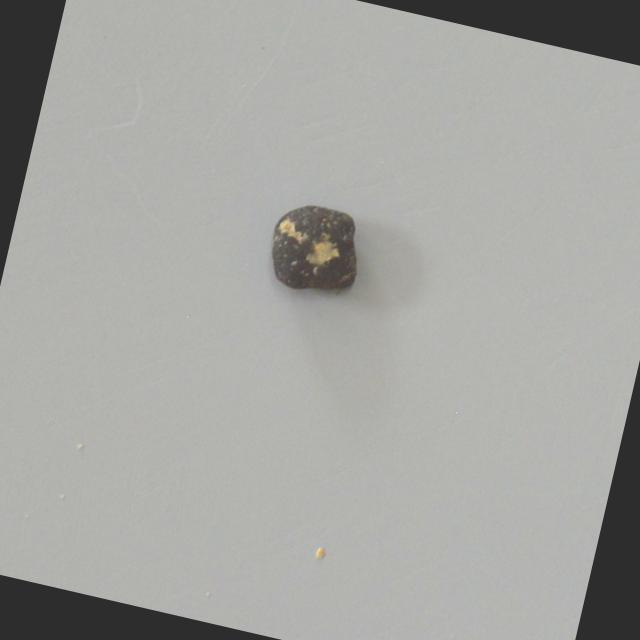cuerpos_extranos: (254, 184, 373, 305)
